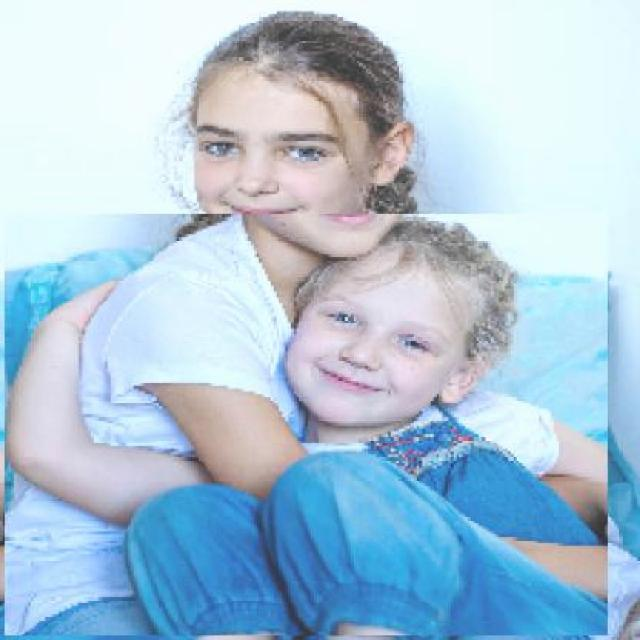child: (3, 214, 608, 637)
